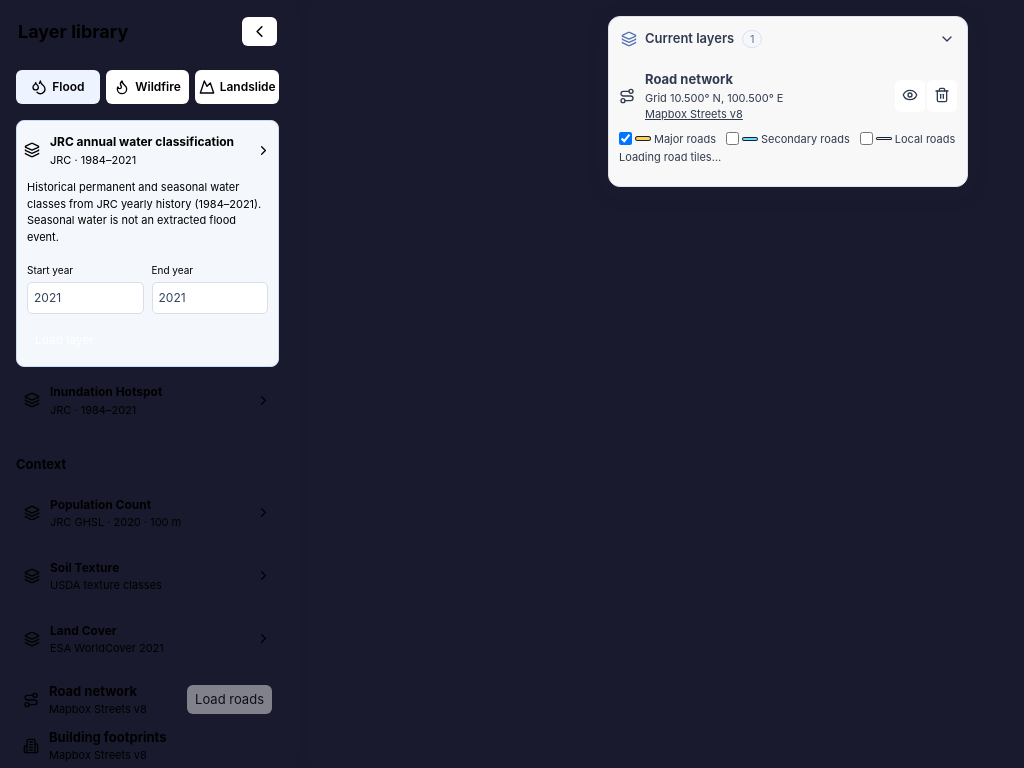
Test: loads, toggles, and removes the selected grid road tiles without posting to the road API
Earlier steps of the test are not shown.
Later steps or results of the test are not shown.
Step 1. Click the checkbox labelled "Secondary roads" → (732,139), box top-left (726, 132), bottom-right (739, 145)
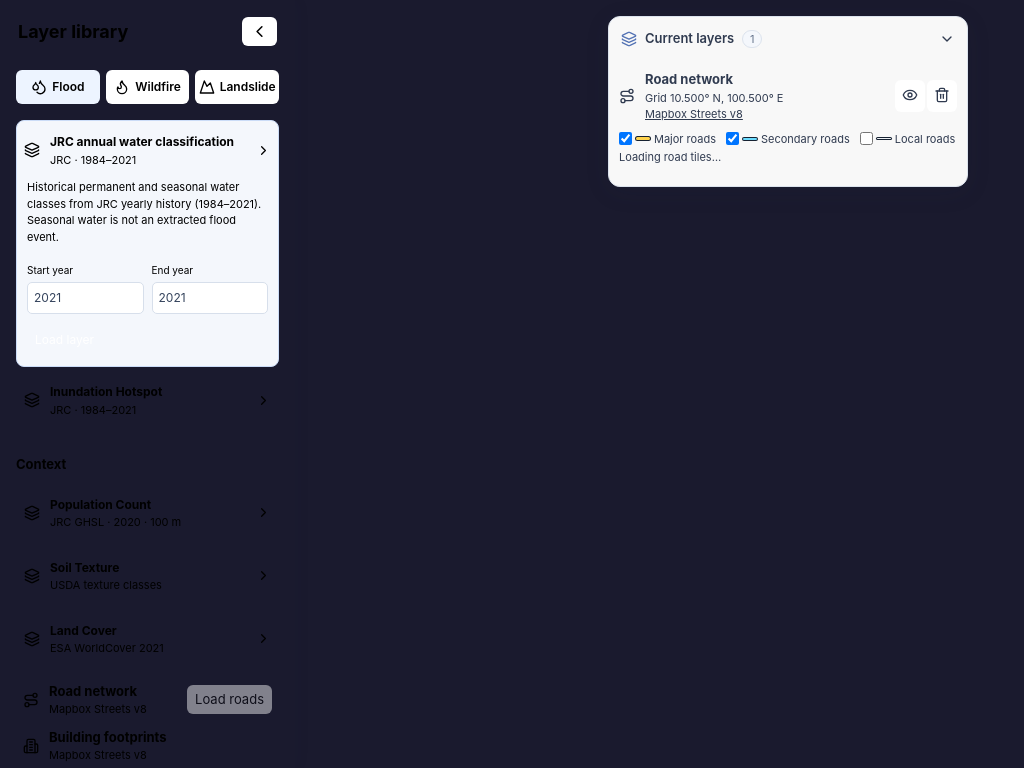
Step 2. Click the checkbox labelled "Local roads" → (866,139), box top-left (860, 132), bottom-right (873, 145)
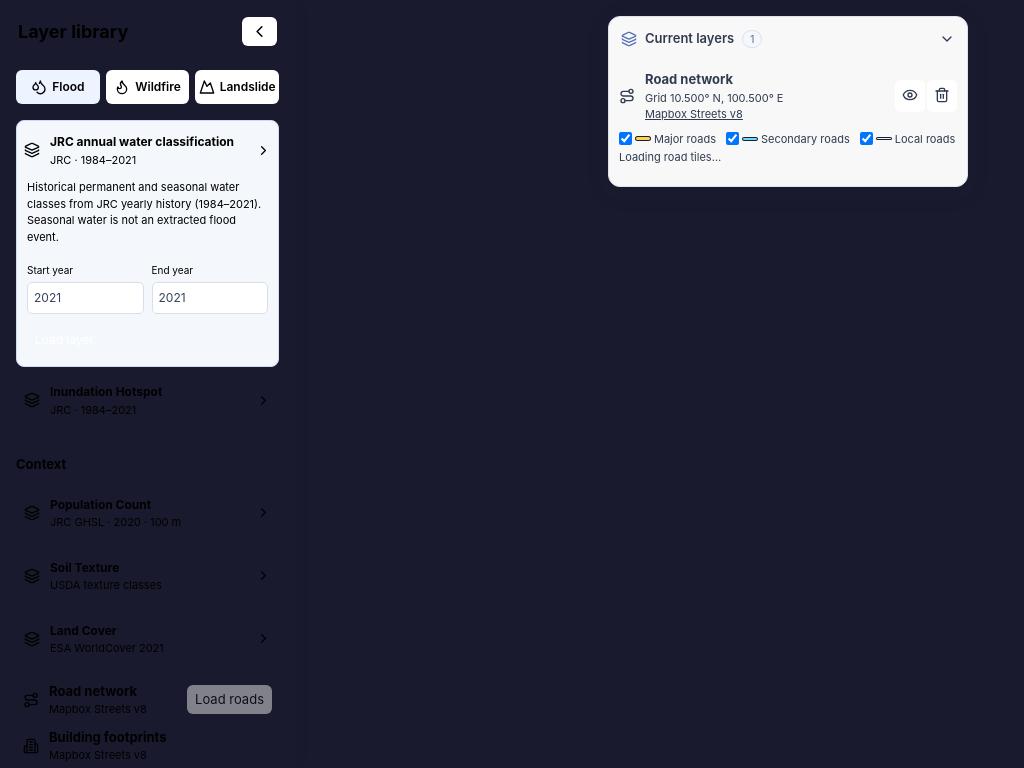
Step 3. Click the checkbox labelled "Major roads" → (626,139), box top-left (619, 132), bottom-right (632, 145)
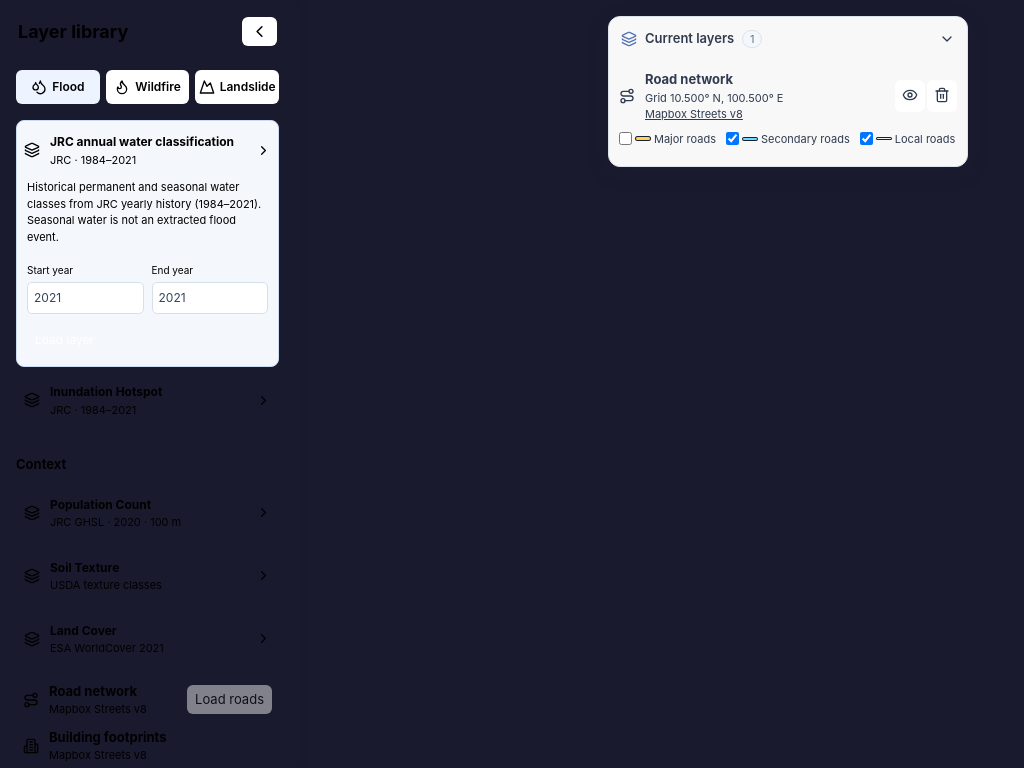
expect the text "Loading road tiles" is gone: met
Step 4. Click the button named "Hide Road network, Grid 10.500° N, 100.500° E" → (910,96), box top-left (895, 80), bottom-right (925, 112)
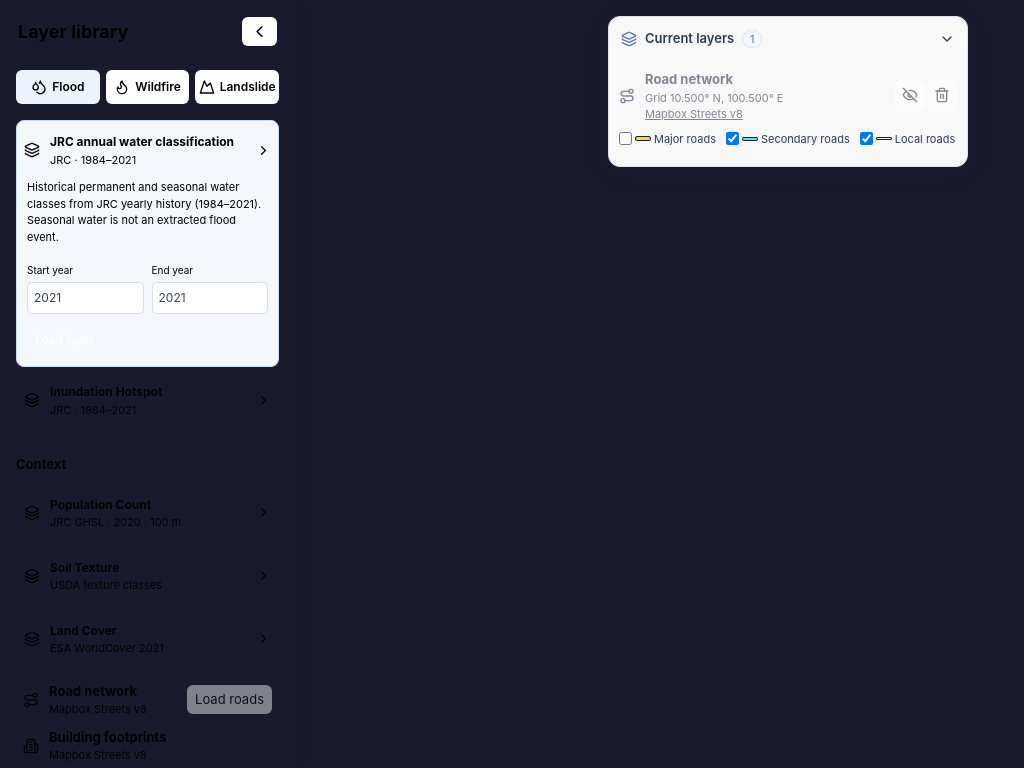
expect the button named "Show Road network, Grid 10.500° N, 100.500° E" is shown: met
Step 5. Click the button named "Show Road network, Grid 10.500° N, 100.500° E" → (910,96), box top-left (895, 80), bottom-right (925, 112)
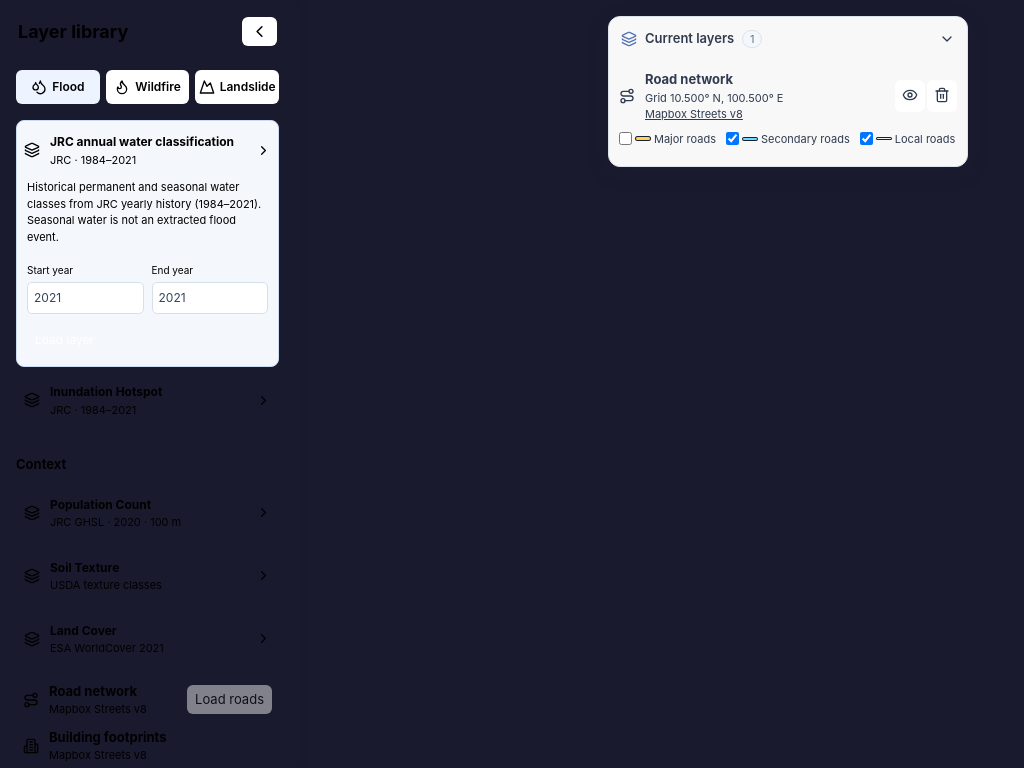
expect the button named "Remove Road network, Grid 10.500° N, 100.500° E" is shown: met
Step 6. Click the button named "Remove Road network, Grid 10.500° N, 100.500° E" → (942,96), box top-left (927, 80), bottom-right (957, 112)
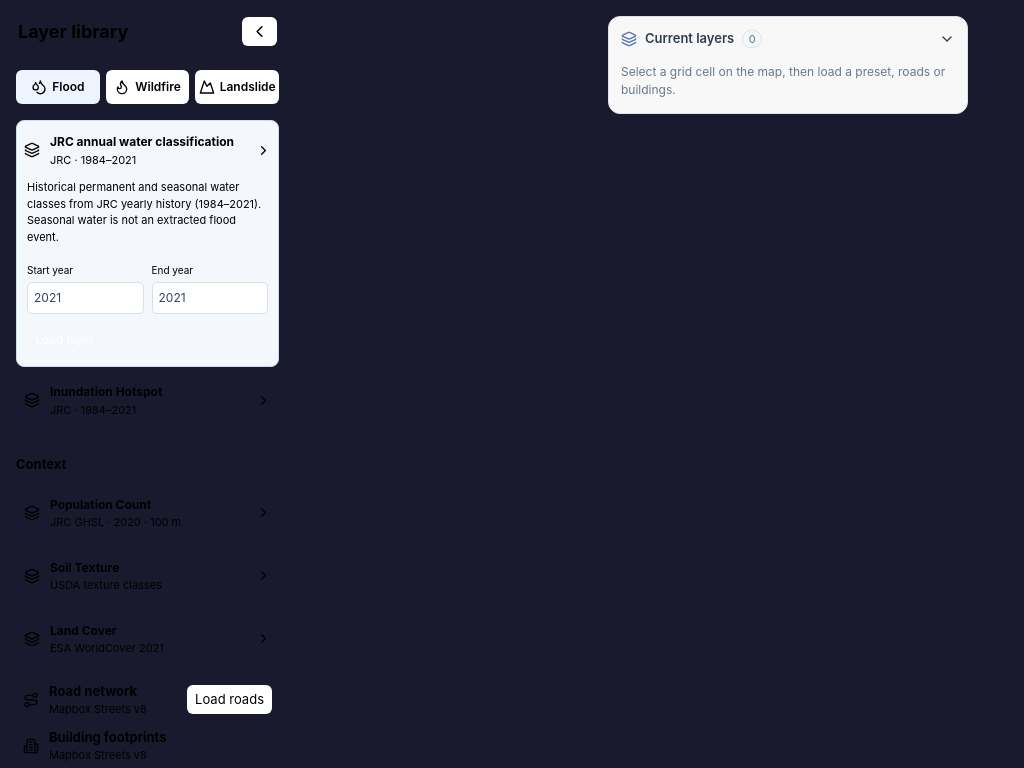
expect the button "Load roads" is enabled: met, box top-left (187, 685), bottom-right (272, 714)
